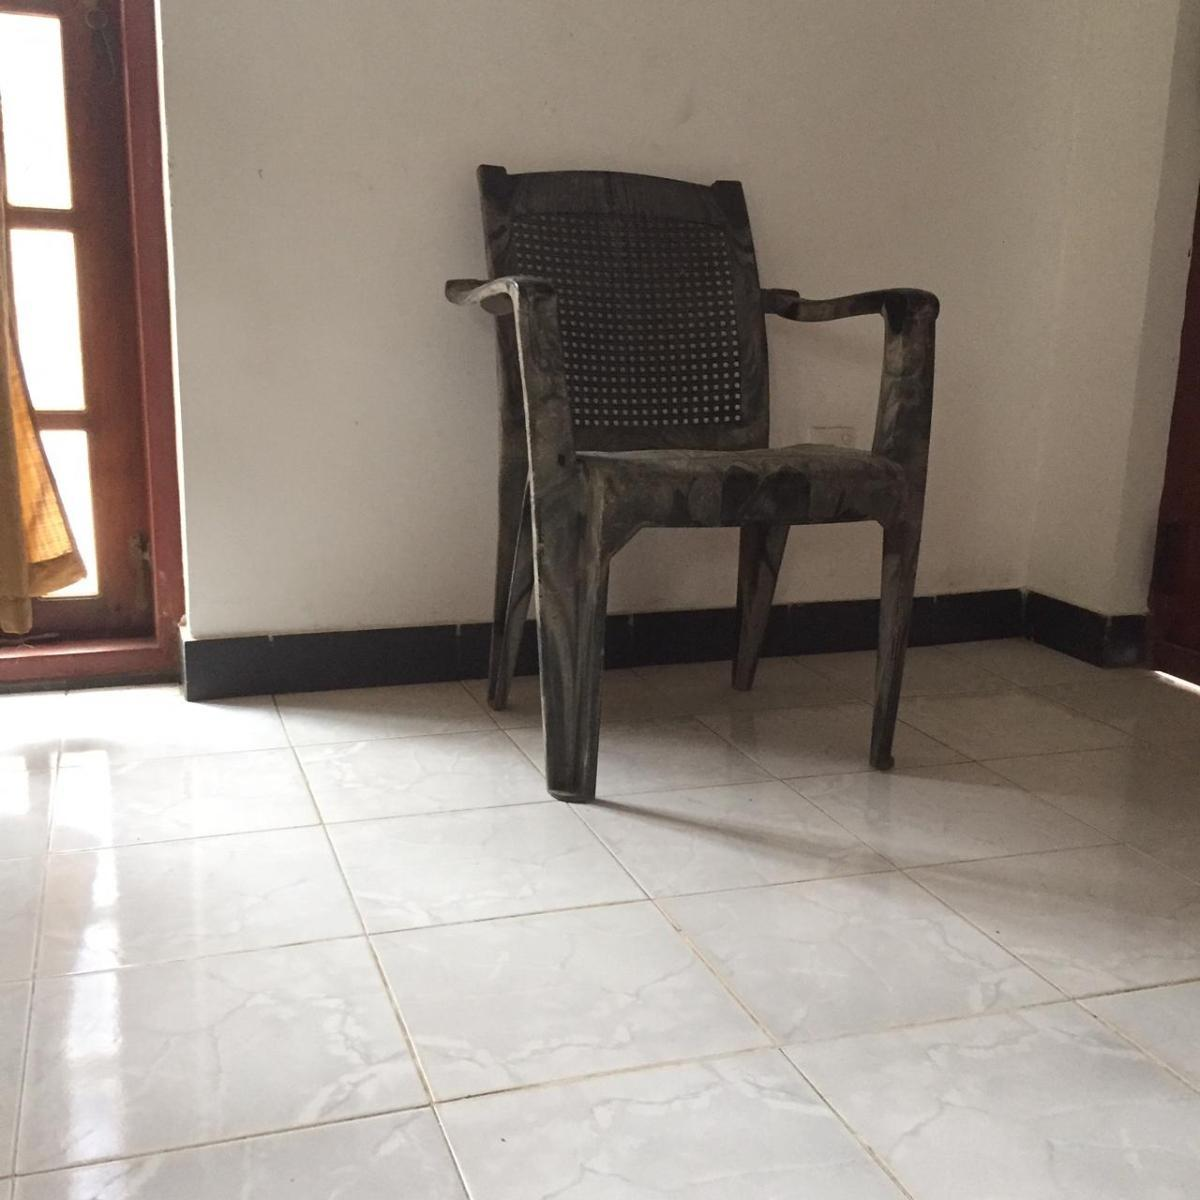Chair: (440, 162, 941, 804)
